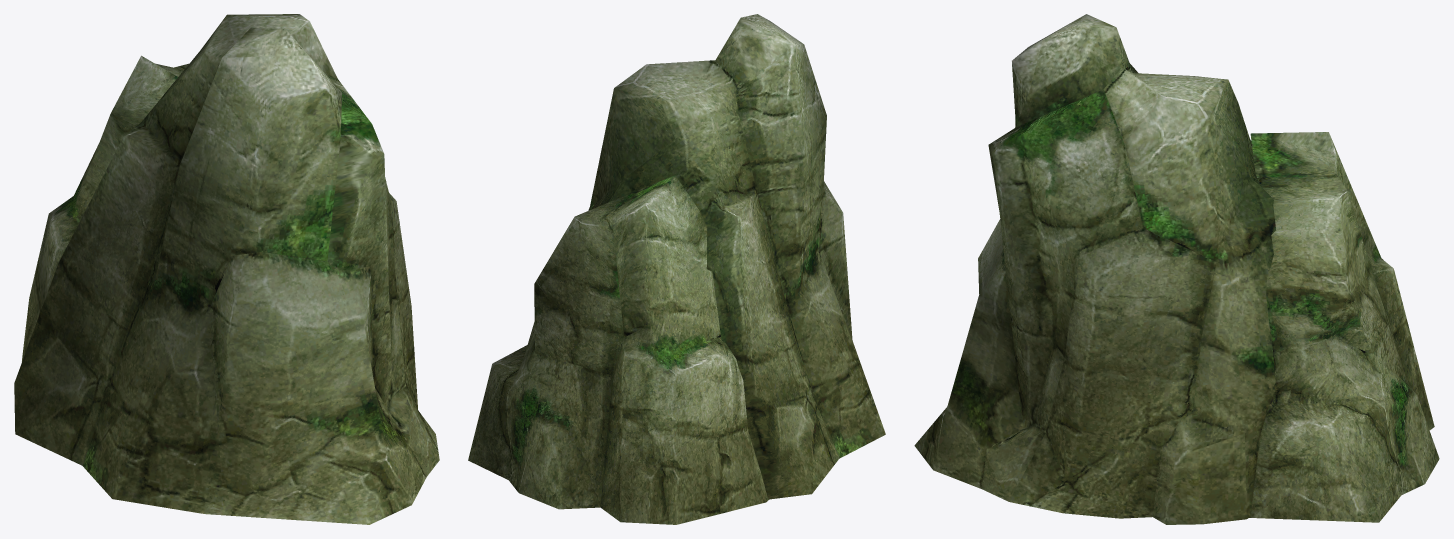
File: Utility_Stone_Maincity11_01_LOD2.FBX
3 views of the same model, side by side, from view 1: azimuth 30°, elevation 25°; view 2: azimuth 150°, elevation 25°; view 3: azimuth 270°, elevation 25° (orthographic). The views are drawn at different scales.
Parts seen in each view (by area): view 1: Utility_Stone_Maincity11_01_LOD2; view 2: Utility_Stone_Maincity11_01_LOD2; view 3: Utility_Stone_Maincity11_01_LOD2.
Boxes of the visible parts, x1=… form: Utility_Stone_Maincity11_01_LOD2: x1=14, y1=14, x2=439, y2=524; Utility_Stone_Maincity11_01_LOD2: x1=468, y1=14, x2=885, y2=524; Utility_Stone_Maincity11_01_LOD2: x1=914, y1=14, x2=1439, y2=524.
Size of the model in its own units: 533 by 647 by 735.
